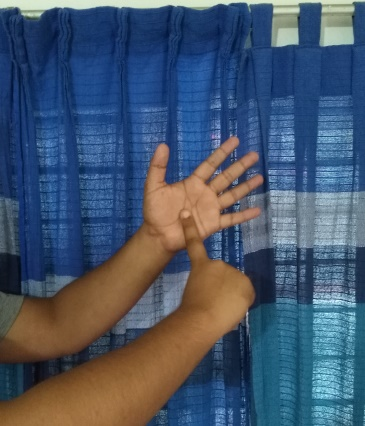oo: (145, 135, 267, 329)
